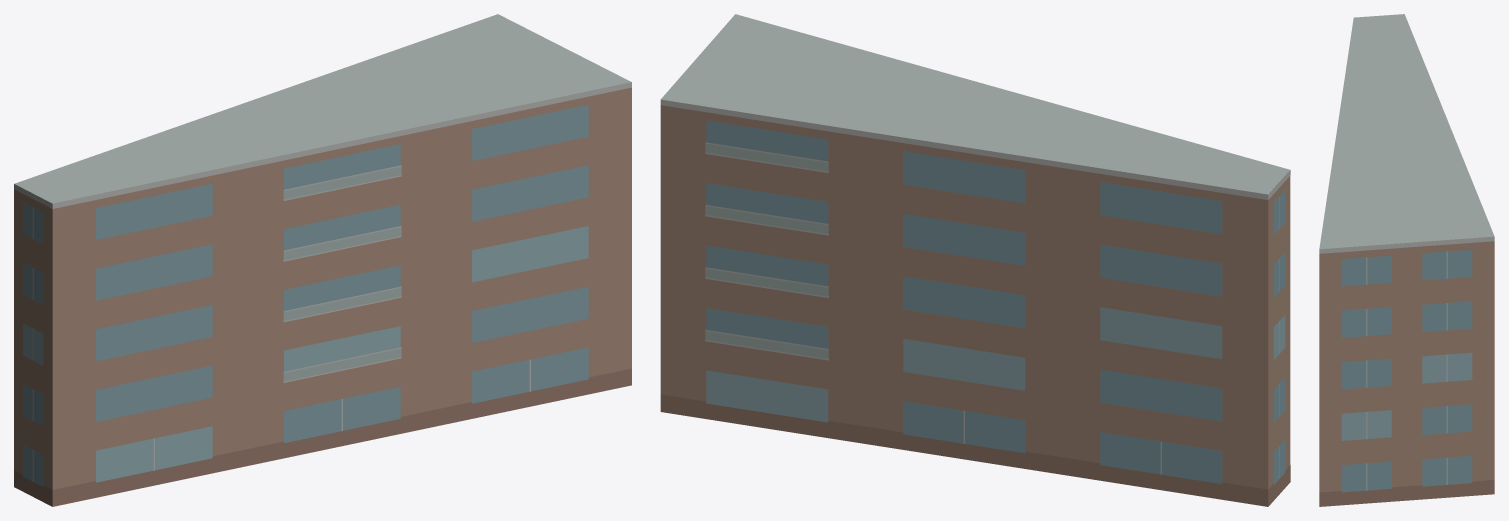
The model's file is survey-upis-32901155.glb.
3 views of the same model, side by side, from view 1: azimuth 30°, elevation 25°; view 2: azimuth 150°, elevation 25°; view 3: azimuth 270°, elevation 25° (orthographic). The views are drawn at different scales.
Parts seen in each view (by area): view 1: survey-upis-32901155.tmp; view 2: survey-upis-32901155.tmp; view 3: survey-upis-32901155.tmp.
Boxes of the visible parts, x1,y1,x2,y2 form: survey-upis-32901155.tmp: (14,14,631,506); survey-upis-32901155.tmp: (660,14,1290,506); survey-upis-32901155.tmp: (1319,14,1494,506).
Bounding box in the file's own units: 26.85 × 13.7 × 8.47.
